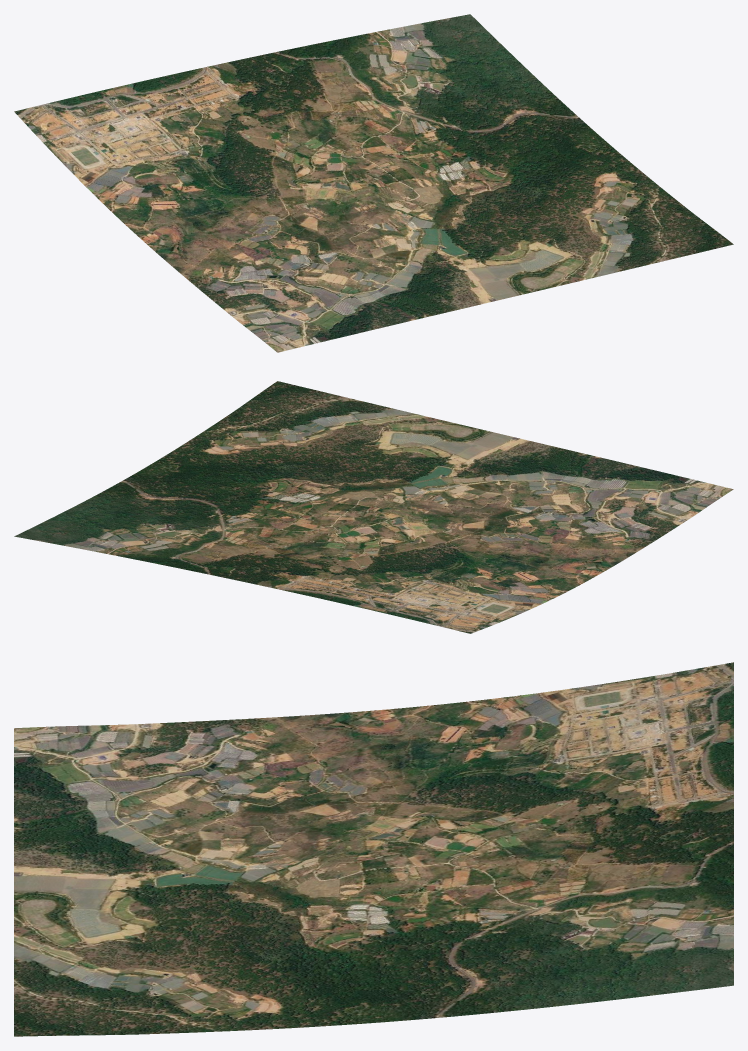
Rendered from terrain_real_T_E00_N04.glb.
The picture shows the model from 3 angles, top to bottom: view 1: azimuth 30°, elevation 25°; view 2: azimuth 150°, elevation 25°; view 3: azimuth 270°, elevation 25°; orthographic projection. The views are drawn at different scales.
Parts seen in each view (by area): view 1: Terrain_Real_DEM_T_E00_N04; view 2: Terrain_Real_DEM_T_E00_N04; view 3: Terrain_Real_DEM_T_E00_N04.
Part boxes in pixels (x1=…): Terrain_Real_DEM_T_E00_N04: x1=14, y1=14, x2=733, y2=352; Terrain_Real_DEM_T_E00_N04: x1=14, y1=381, x2=733, y2=633; Terrain_Real_DEM_T_E00_N04: x1=14, y1=662, x2=733, y2=1036.
Size of the model in its own units: 2000 by 215 by 2000.
Materials: 1 (1 with a texture image).
